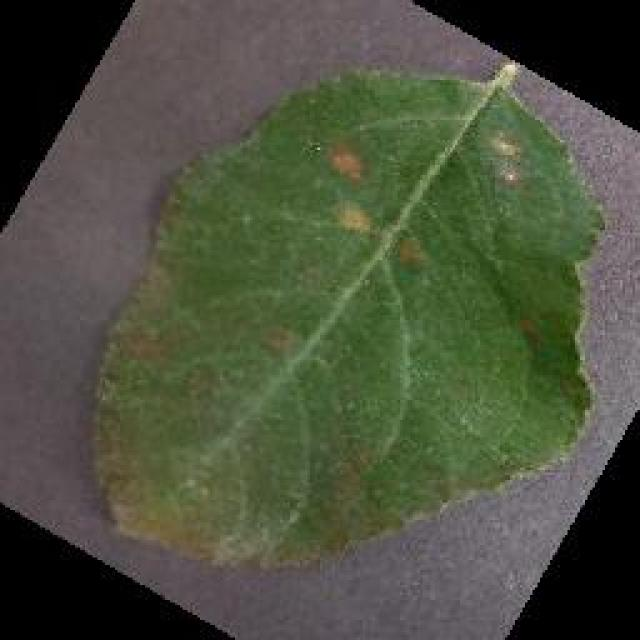apple rust disease: (87, 58, 605, 572)
